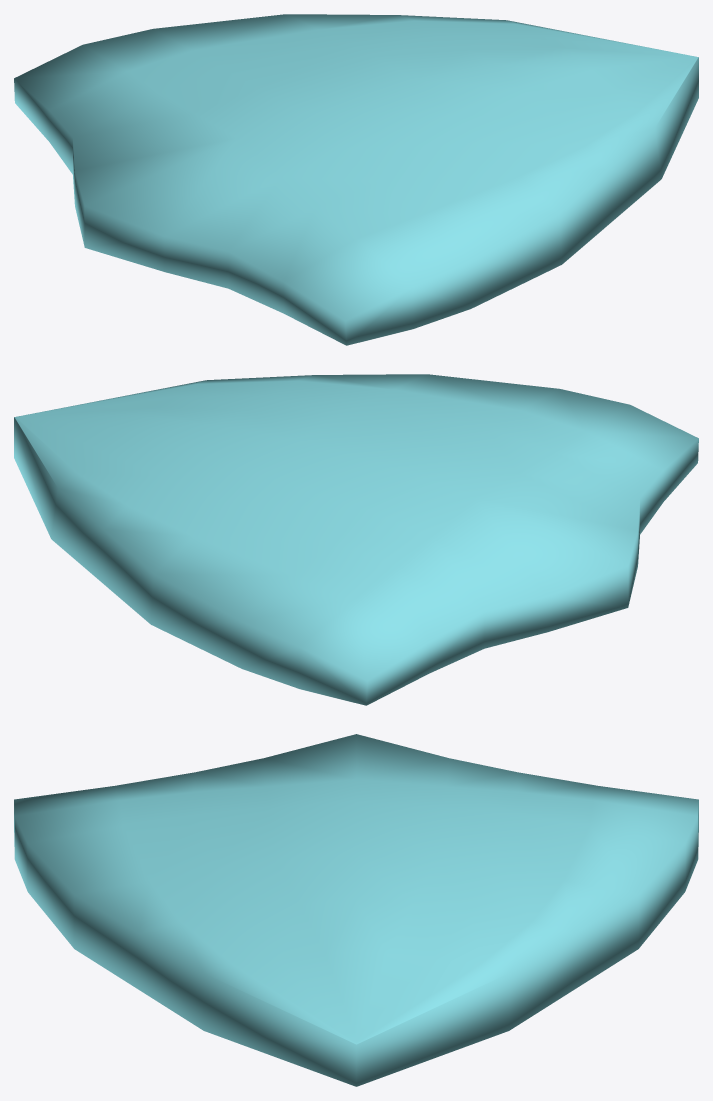
File: shield.fbx
3 renders of one model, top to bottom at view 1: azimuth 30°, elevation 25°; view 2: azimuth 150°, elevation 25°; view 3: azimuth 270°, elevation 25°, orthographic. The views are drawn at different scales.
Visible parts, largest first — view 1: Shield; view 2: Shield; view 3: Shield.
Part boxes in pixels (x1,y1,x2,y2): Shield: [14, 14, 698, 345]; Shield: [14, 374, 698, 705]; Shield: [14, 734, 698, 1086].
Size of the model in its own units: 190 by 25.64 by 178.
